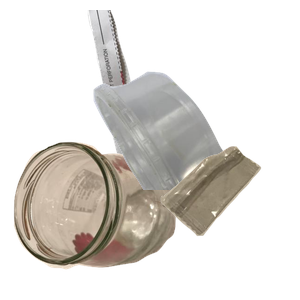glass: (11, 139, 179, 300)
paper: (85, 10, 224, 190)
plastic: (91, 69, 300, 249)
trash: (158, 144, 300, 300)
